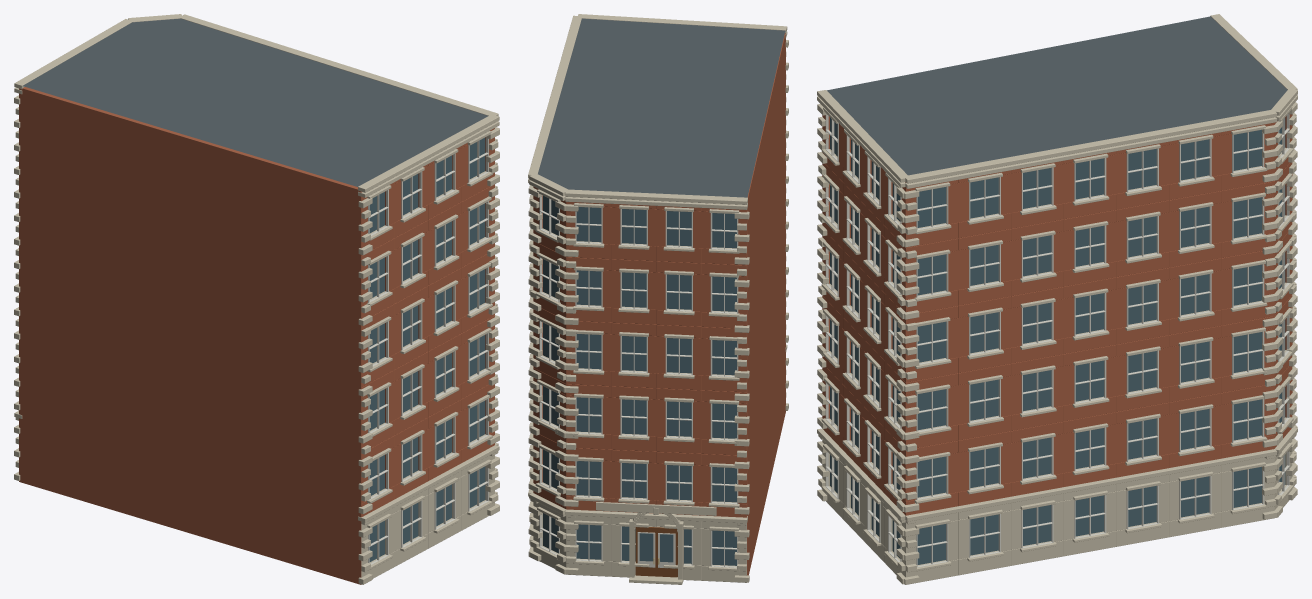
File: 51l-exterior-8cb66ef6e5e7.glb
3 views of the same model, side by side, from view 1: azimuth 30°, elevation 25°; view 2: azimuth 150°, elevation 25°; view 3: azimuth 270°, elevation 25° (orthographic). The views are drawn at different scales.
Parts seen in each view (by area): view 1: 51L.001; view 2: 51L.001; view 3: 51L.001.
Boxes of the visible parts, left/top/right/bottom form: 51L.001: left=14, top=14, right=499, bottom=584; 51L.001: left=528, top=14, right=788, bottom=584; 51L.001: left=817, top=14, right=1297, bottom=584.
Size of the model in its own units: 18.38 by 20.95 by 22.41.
